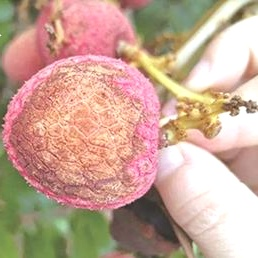Anthracnose: (10, 69, 136, 185)
